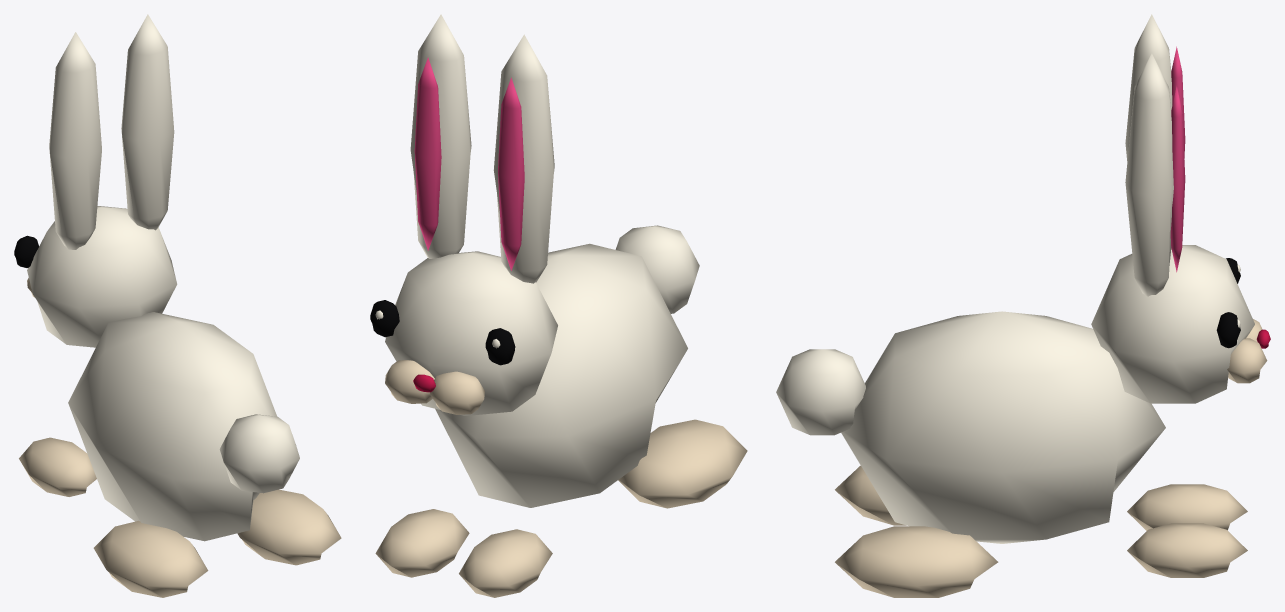
Rendered from PV_PetRabbit.fbx.
The picture shows the model from 3 angles, left to right: view 1: azimuth 30°, elevation 25°; view 2: azimuth 150°, elevation 25°; view 3: azimuth 270°, elevation 25°; orthographic projection. The views are drawn at different scales.
Parts seen in each view (by area): view 1: PV_PetRabbit_LOD0; view 2: PV_PetRabbit_LOD0; view 3: PV_PetRabbit_LOD0.
Boxes of the visible parts, x1,y1,x2,y2 form: PV_PetRabbit_LOD0: [14, 14, 341, 597]; PV_PetRabbit_LOD0: [370, 14, 747, 597]; PV_PetRabbit_LOD0: [776, 14, 1270, 597].
Size of what is drawn, in the model's own units: 0.4 by 0.806 by 0.694.
